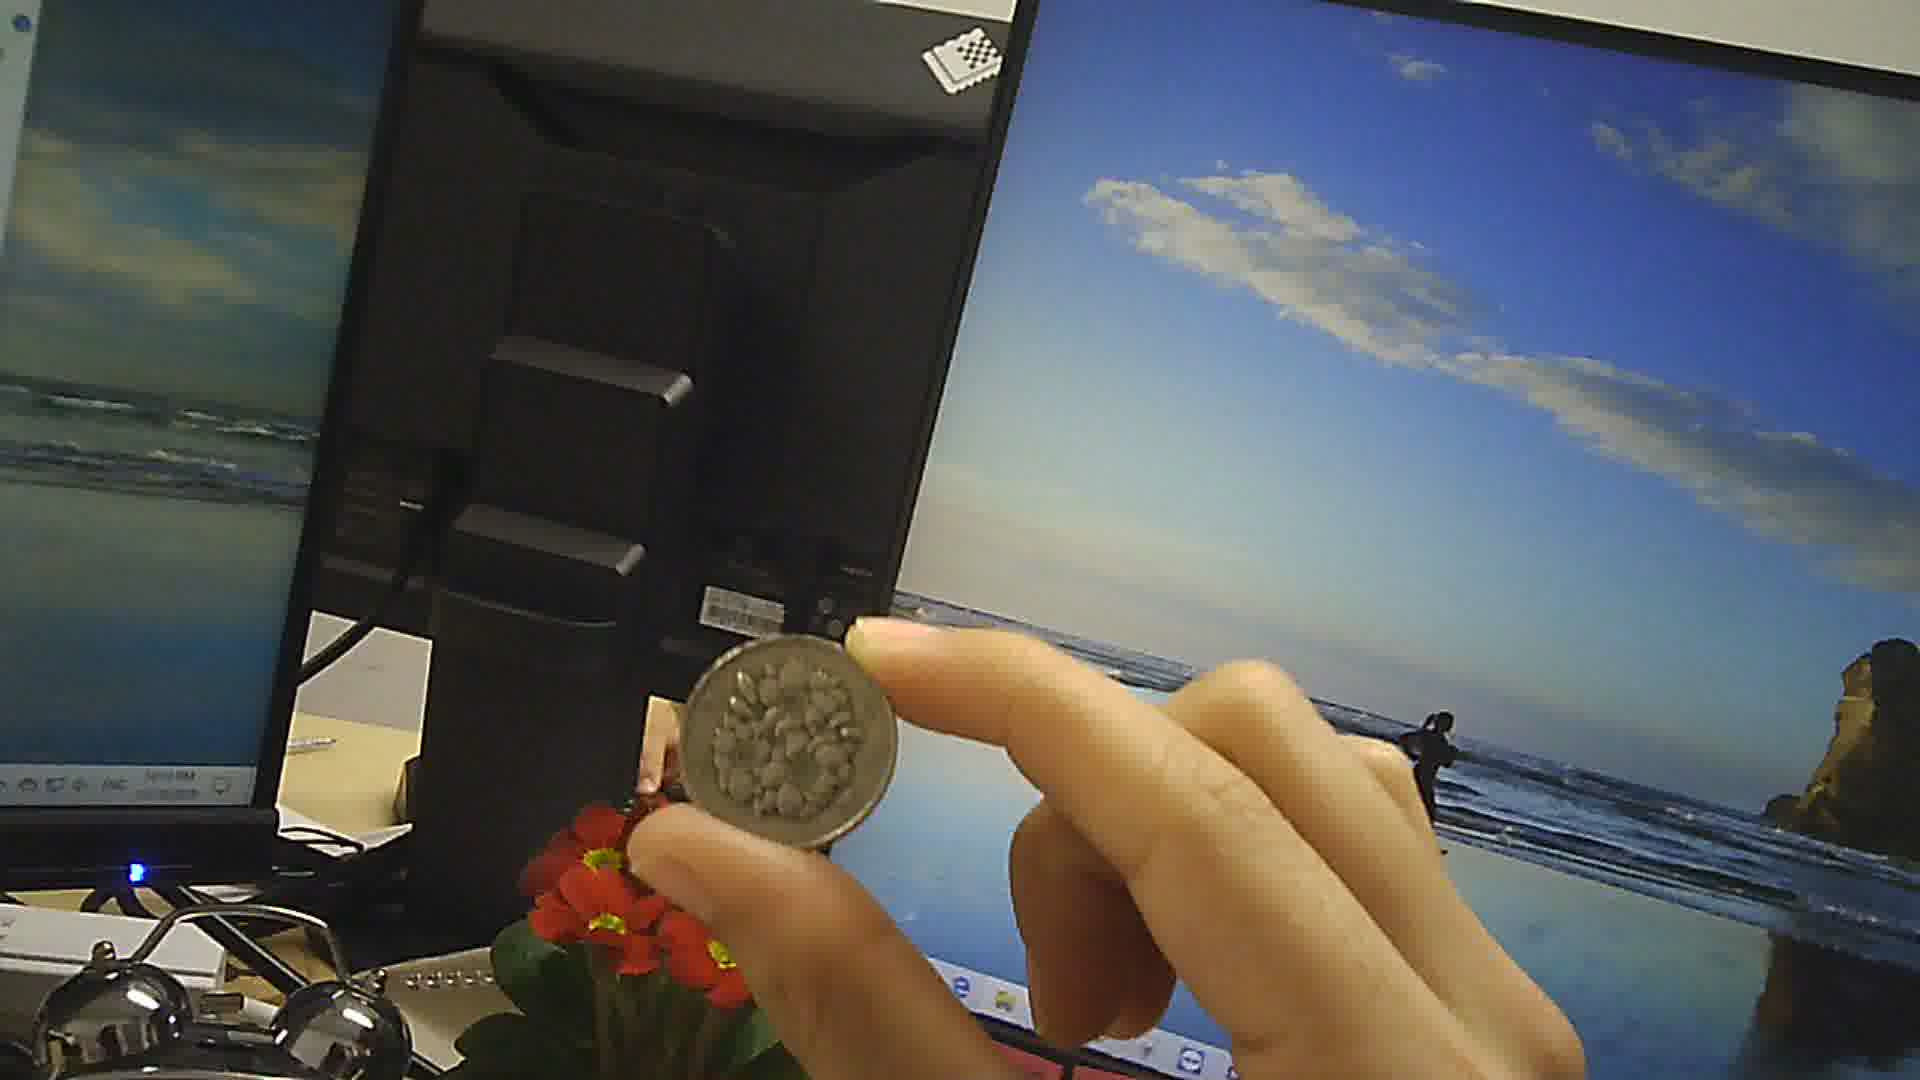100 Yen: (671, 629, 898, 855)
